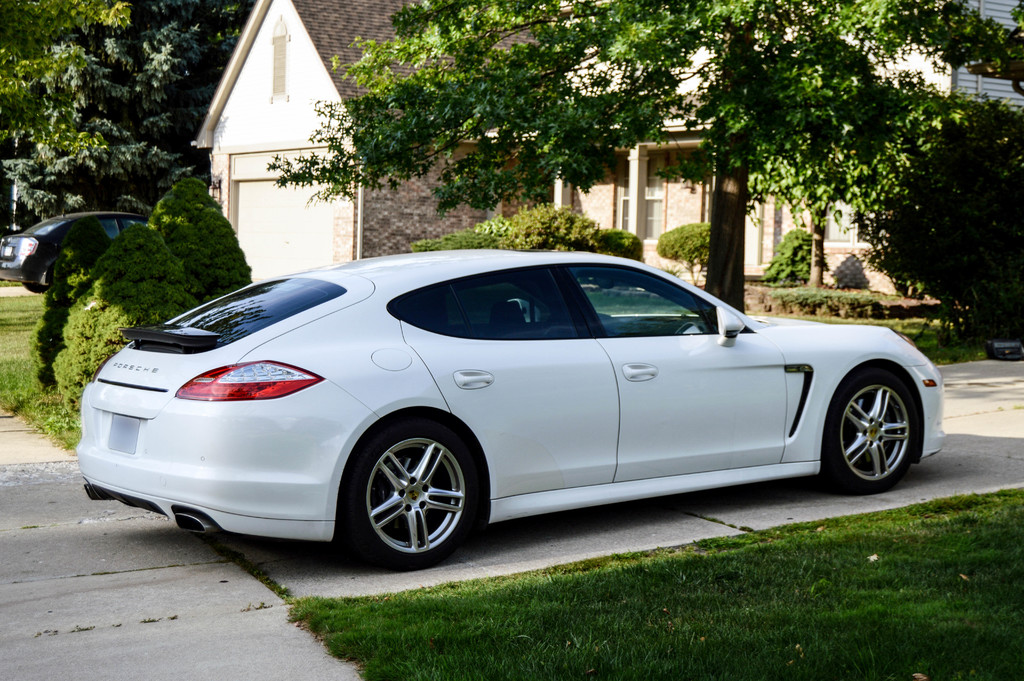Car: (64, 243, 920, 570), (0, 209, 150, 295)
